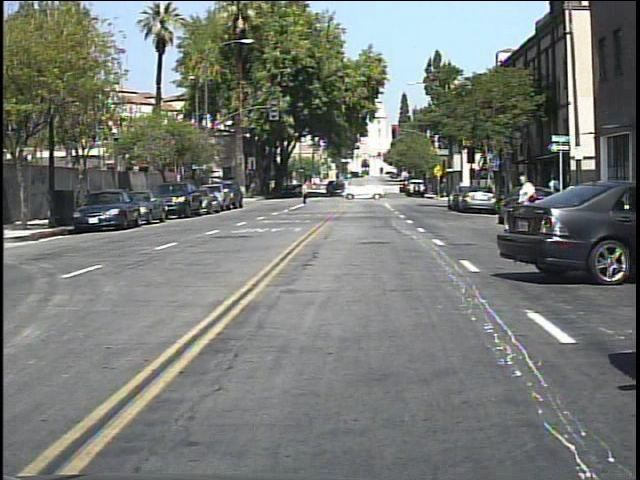person: (511, 167, 543, 245), (545, 169, 565, 216), (298, 176, 315, 209)
